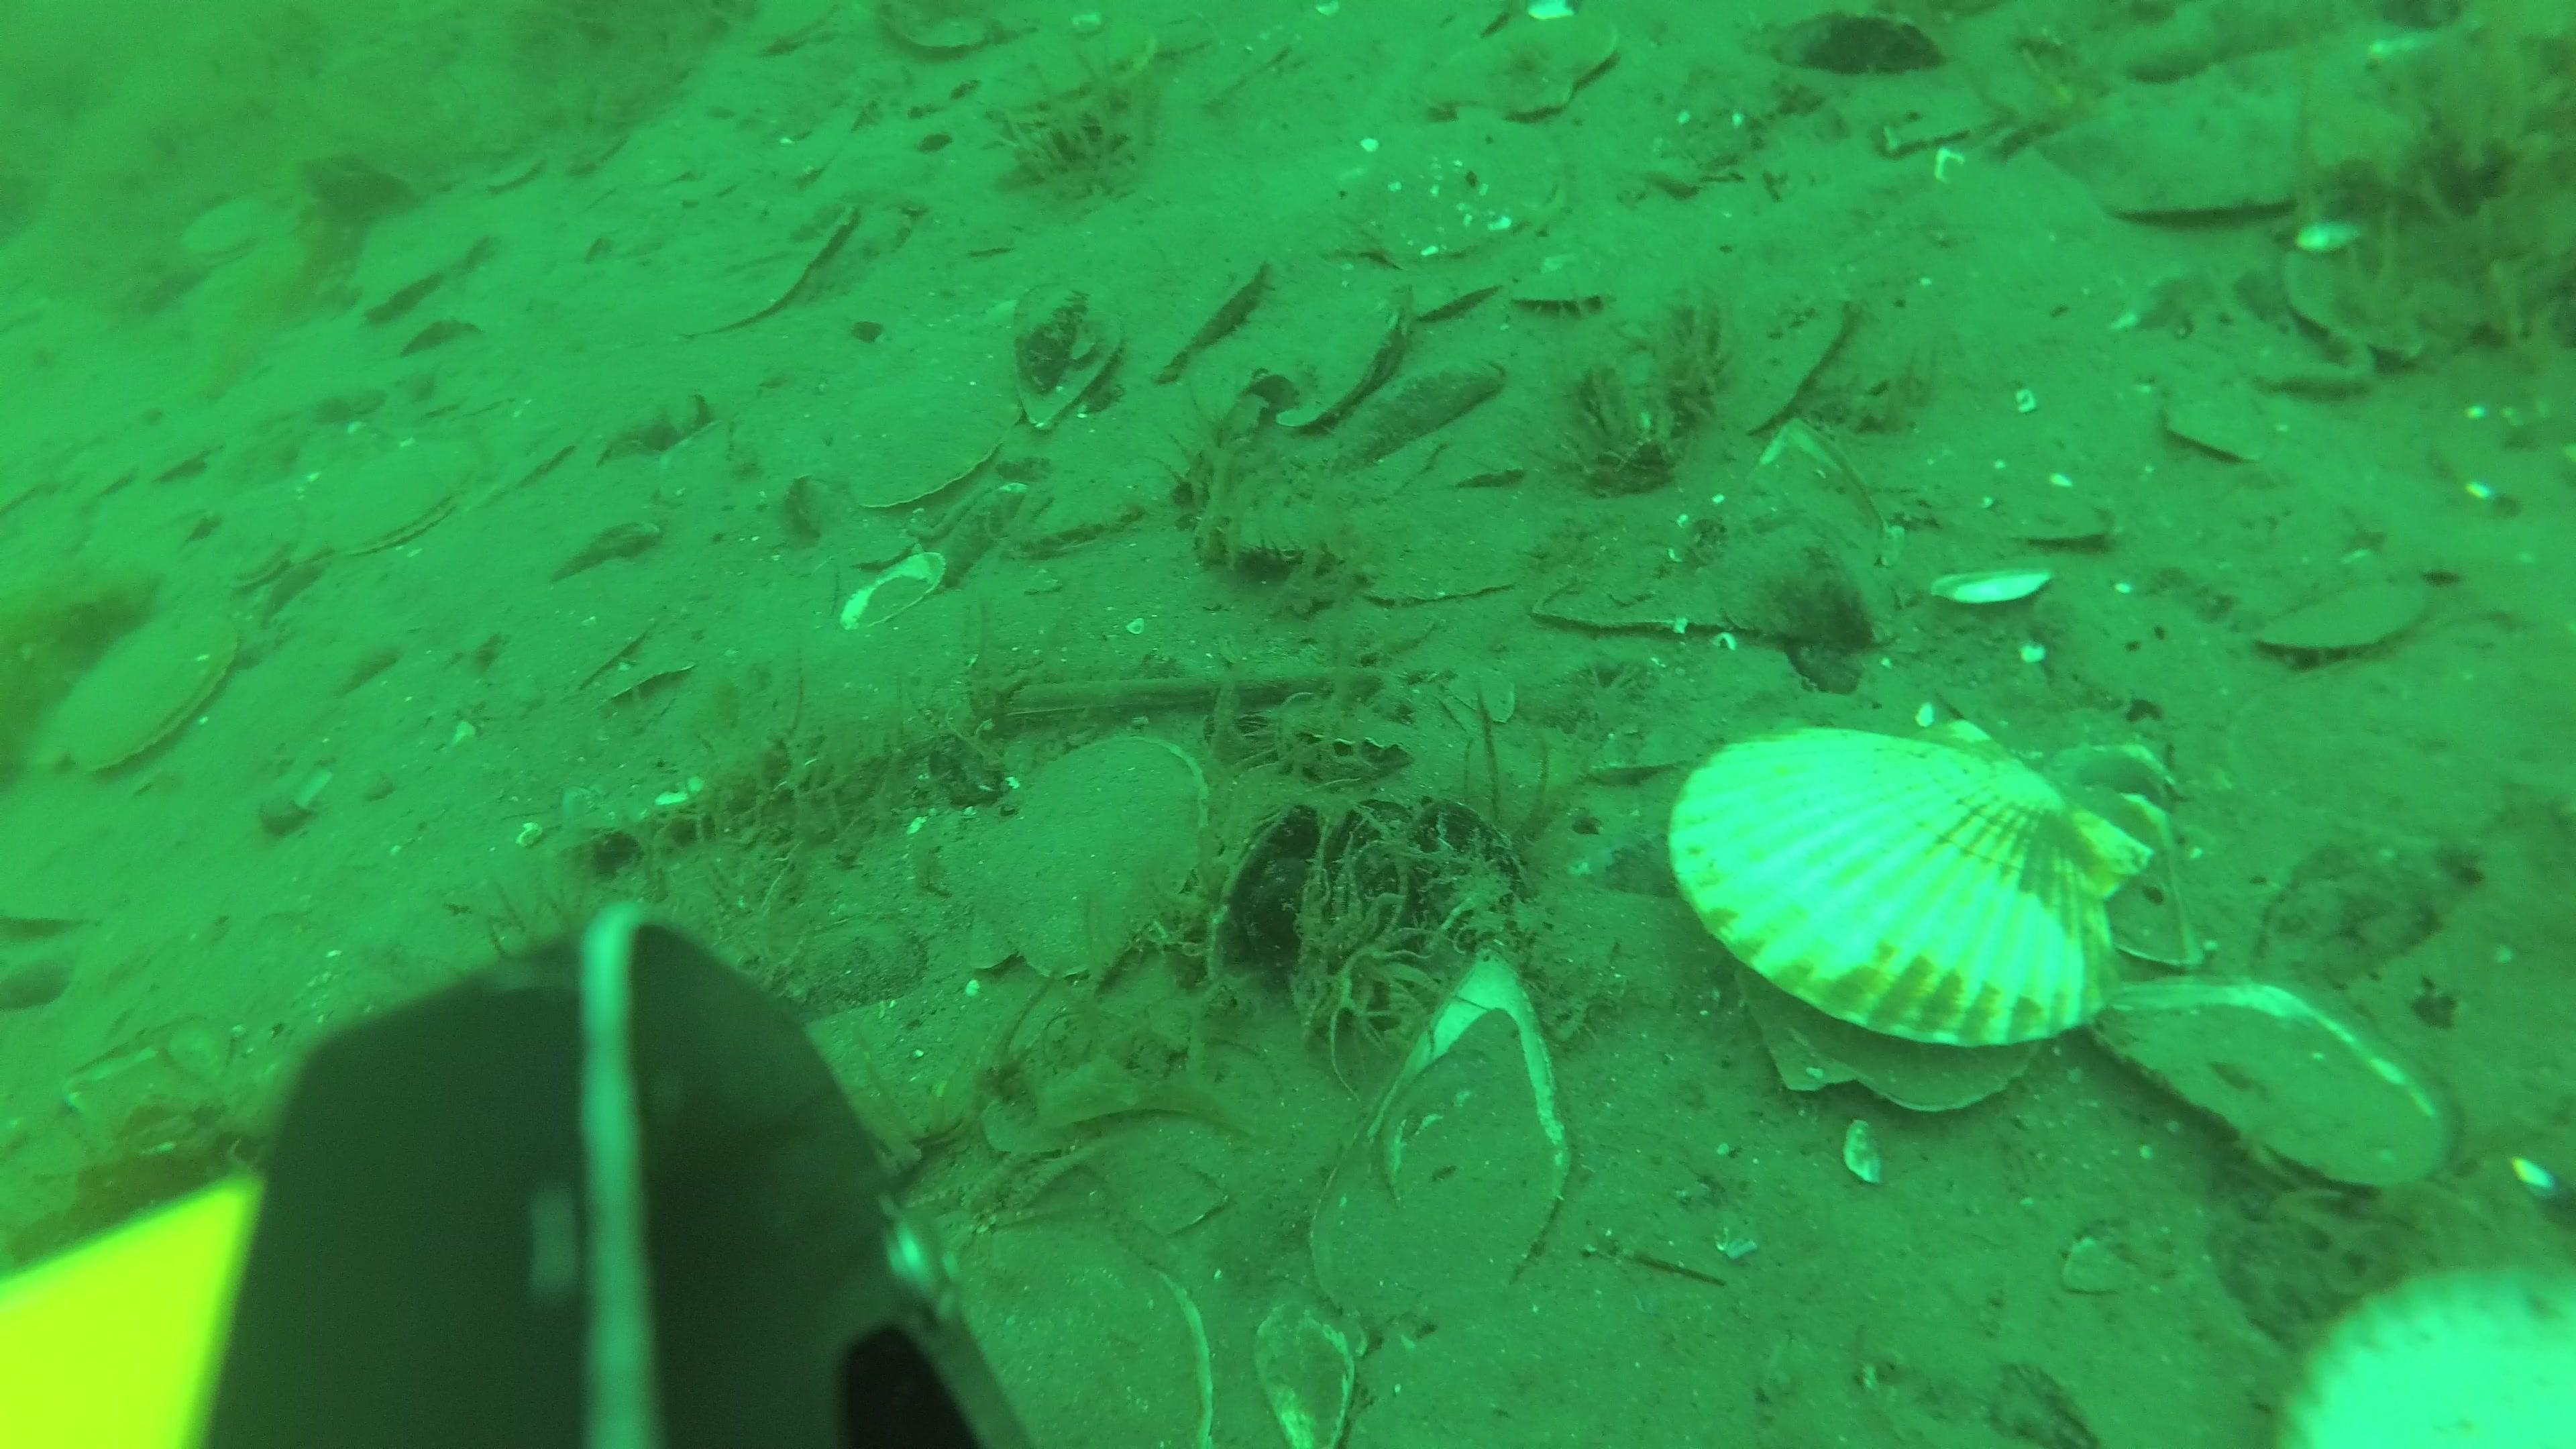scallop: (1665, 706, 2169, 1122), (966, 729, 1214, 980), (1355, 122, 1575, 288), (55, 614, 239, 775), (828, 380, 1019, 517), (1251, 285, 1415, 421), (1435, 21, 1631, 126), (318, 437, 483, 561), (2259, 568, 2438, 676), (1143, 249, 1272, 377), (356, 226, 494, 327), (211, 502, 303, 593), (1514, 255, 1617, 327), (1410, 258, 1491, 322)
